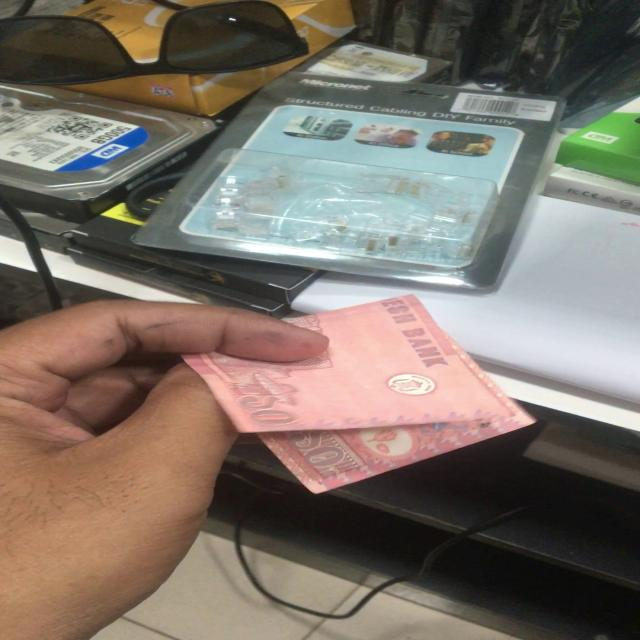Taka: (203, 306, 544, 478)
